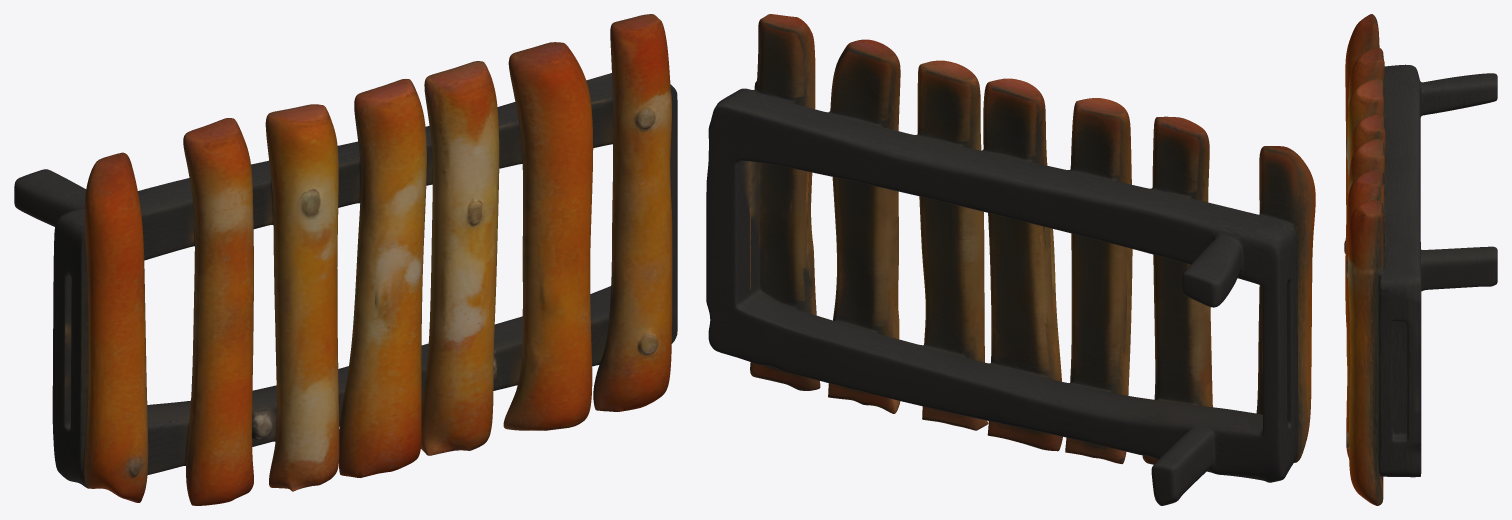
The model's file is sulawesi-tenggara.glb.
3 renders of one model, left to right at view 1: azimuth 30°, elevation 25°; view 2: azimuth 150°, elevation 25°; view 3: azimuth 270°, elevation 25°, orthographic. The views are drawn at different scales.
Visible parts, largest first — view 1: node_0; view 2: node_0; view 3: node_0.
Part boxes in pixels (x1=…): node_0: x1=14, y1=14, x2=677, y2=505; node_0: x1=706, y1=14, x2=1315, y2=505; node_0: x1=1344, y1=14, x2=1497, y2=505.
Size of the model in its own units: 1.06 by 0.6404 by 0.3071.
Materials: 1 (1 with a texture image).
